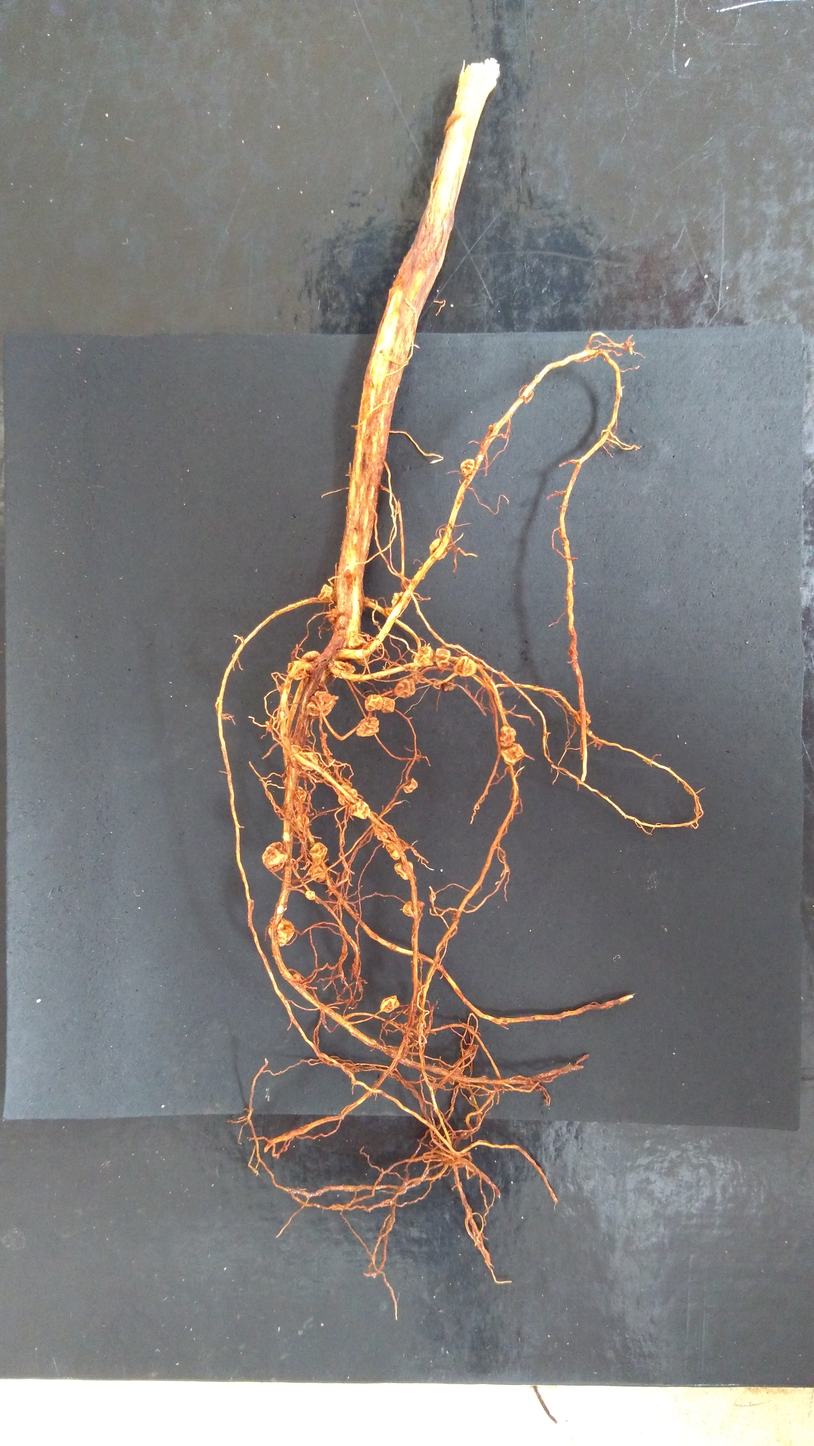nodule: (305, 690, 339, 719), (262, 841, 289, 873), (267, 917, 295, 947), (348, 633, 371, 666), (287, 659, 314, 681), (453, 654, 478, 677), (330, 659, 356, 681), (500, 742, 524, 765), (413, 646, 435, 668), (356, 717, 379, 737), (338, 783, 358, 806), (308, 842, 328, 865), (429, 538, 449, 560), (394, 679, 416, 698), (349, 800, 371, 819), (434, 647, 451, 671), (499, 725, 517, 747), (402, 900, 425, 917), (394, 861, 414, 880), (301, 752, 320, 771), (309, 864, 328, 883), (380, 995, 400, 1013), (391, 591, 409, 610), (365, 695, 384, 713), (459, 458, 476, 478), (385, 842, 403, 859), (574, 709, 591, 727), (317, 584, 333, 603), (301, 650, 321, 665), (402, 777, 418, 794), (292, 973, 308, 989), (381, 696, 395, 714), (294, 786, 307, 805), (294, 812, 310, 827), (440, 679, 456, 692), (296, 829, 309, 844), (328, 608, 341, 622), (400, 579, 413, 591), (376, 829, 388, 841), (452, 1066, 464, 1078), (305, 890, 316, 900), (384, 606, 393, 615), (321, 732, 328, 741), (433, 955, 440, 963), (304, 730, 311, 738), (363, 596, 370, 602), (488, 424, 494, 430)
